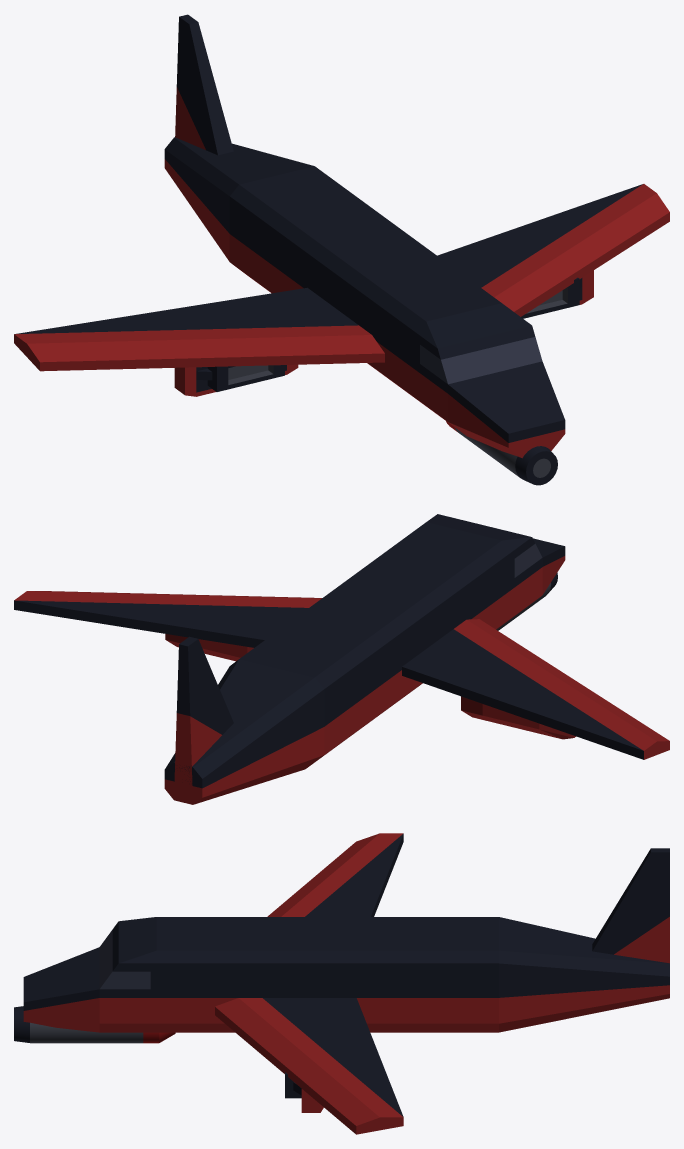
The model's file is fastplane.fbx.
3 renders of one model, top to bottom at view 1: azimuth 30°, elevation 25°; view 2: azimuth 150°, elevation 25°; view 3: azimuth 270°, elevation 25°, orthographic. The views are drawn at different scales.
Visible parts, largest first — view 1: mergedBlocks; view 2: mergedBlocks; view 3: mergedBlocks.
Boxes of the visible parts, x1,y1,x2,y2 form: mergedBlocks: (14,14,669,485); mergedBlocks: (14,514,669,804); mergedBlocks: (14,833,669,1134).
Bounding box in the file's own units: 70 × 22.2 × 69.
